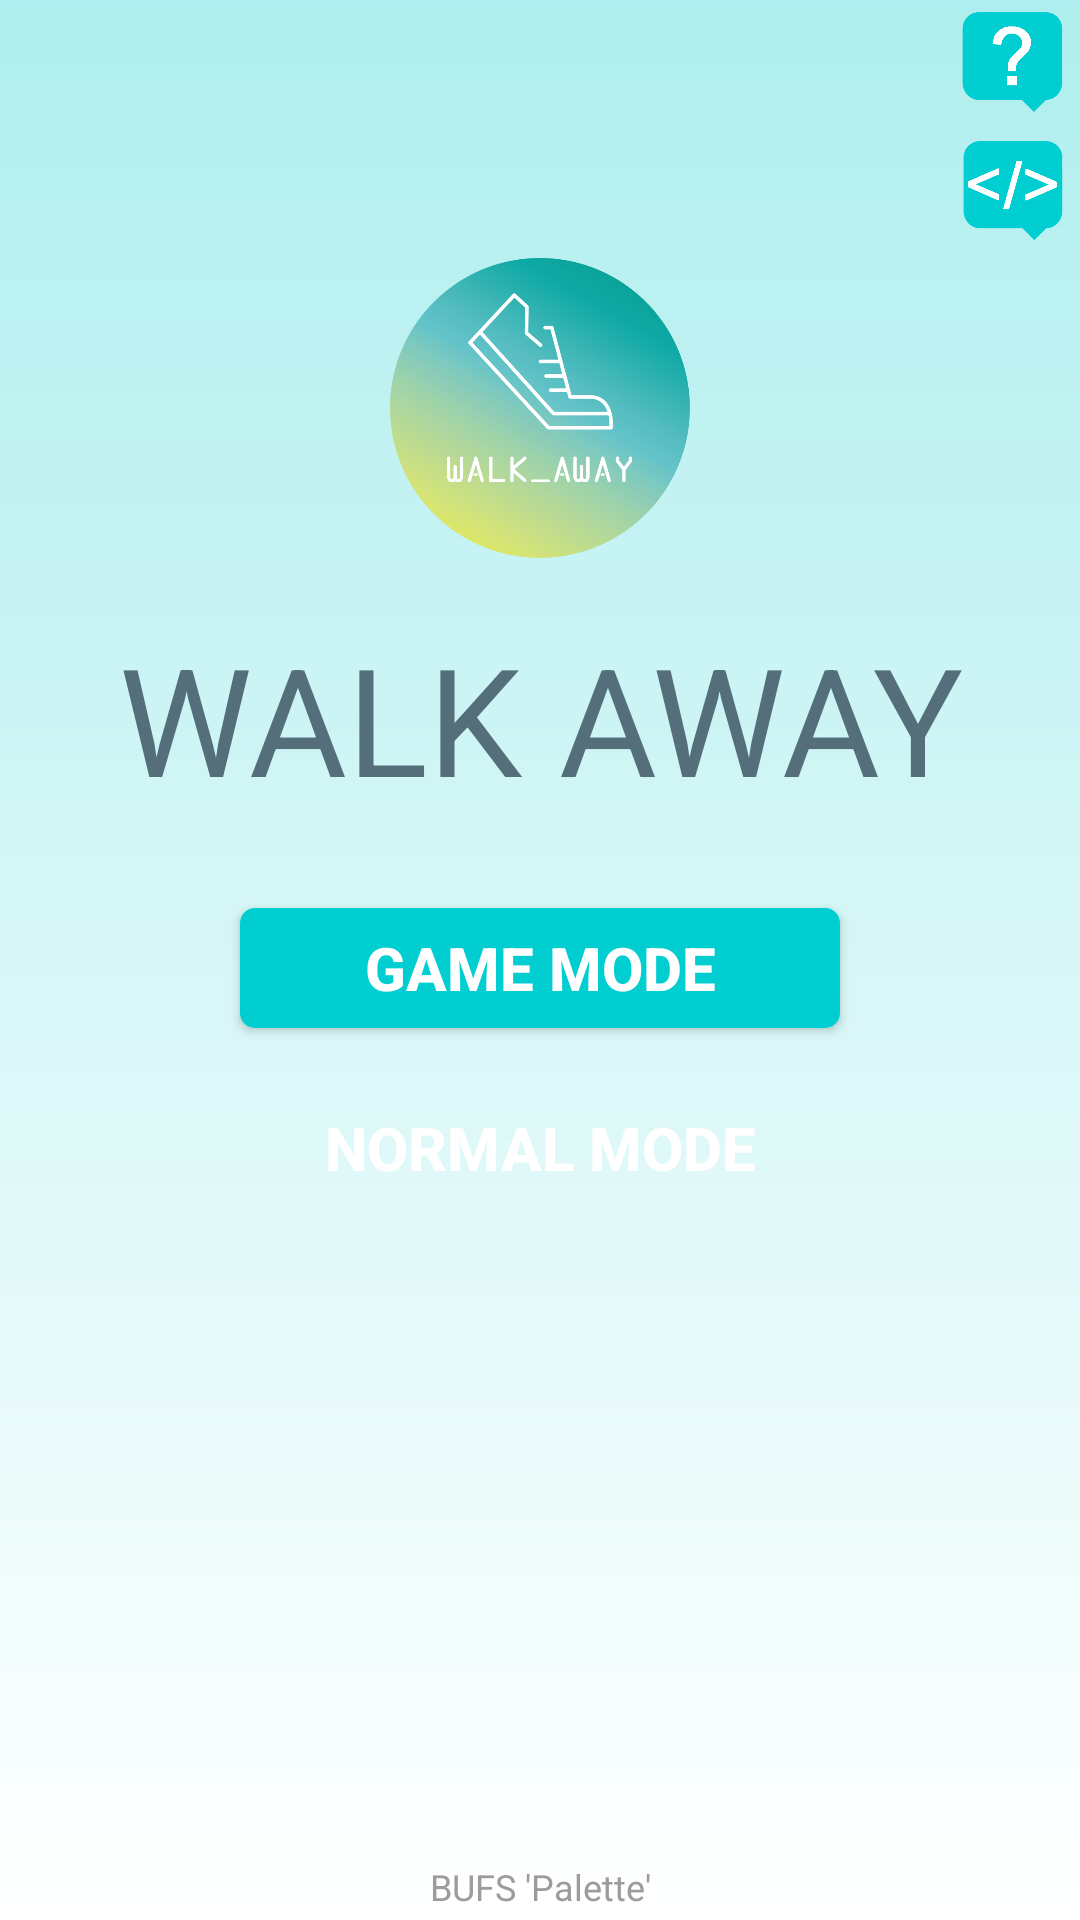

Icon click points for this 1080px×1920px phone screenshot, format [x,y]:
deve: [1013,190]
